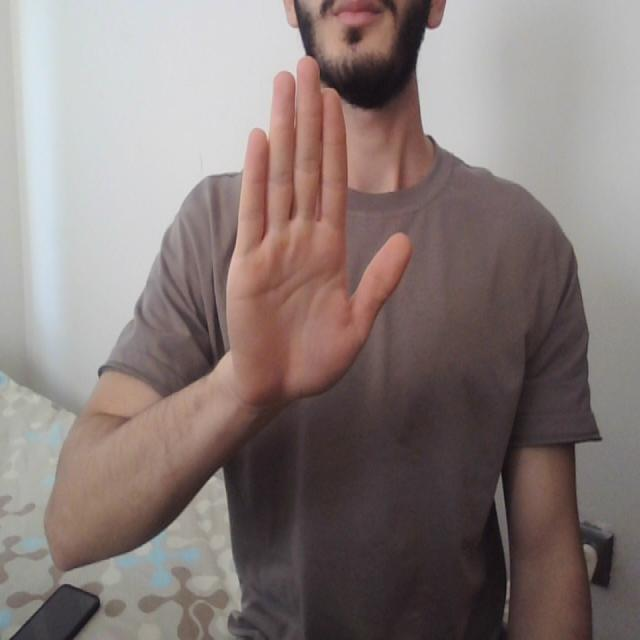Dur: (210, 53, 416, 409)
